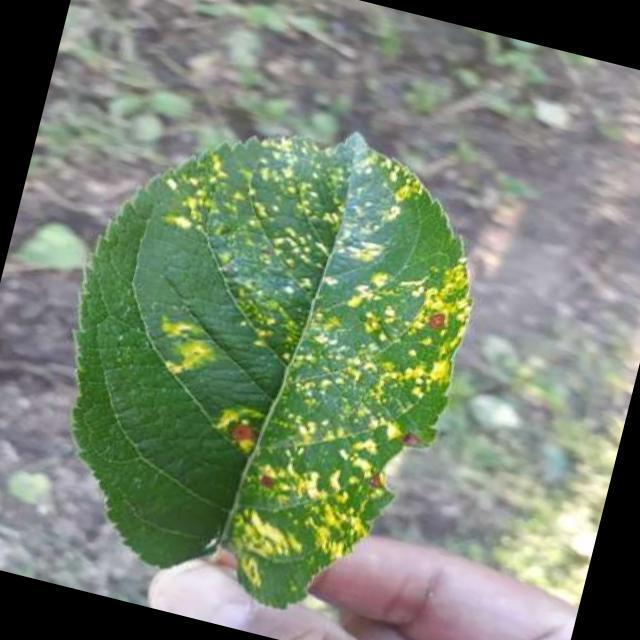Mosaic Virus: (57, 78, 491, 628)
